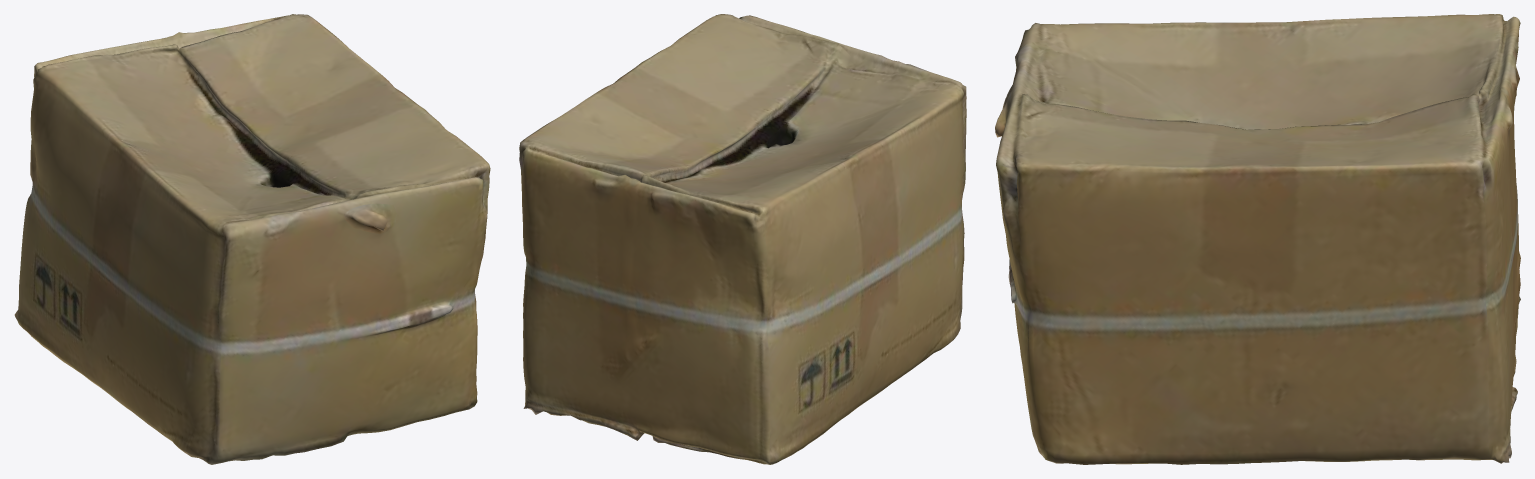
File: cardboard_box_01.glb
The picture shows the model from 3 angles, left to right: view 1: azimuth 30°, elevation 25°; view 2: azimuth 150°, elevation 25°; view 3: azimuth 270°, elevation 25°; orthographic projection. The views are drawn at different scales.
Visible parts, largest first — view 1: cardboard_box_01; view 2: cardboard_box_01; view 3: cardboard_box_01.
Boxes of the visible parts, x1=… form: cardboard_box_01: x1=14, y1=14, x2=490, y2=464; cardboard_box_01: x1=519, y1=14, x2=966, y2=464; cardboard_box_01: x1=995, y1=14, x2=1520, y2=464.
Size of the model in its own units: 0.387 by 0.3418 by 0.5159.
1 material, 1 textured.
